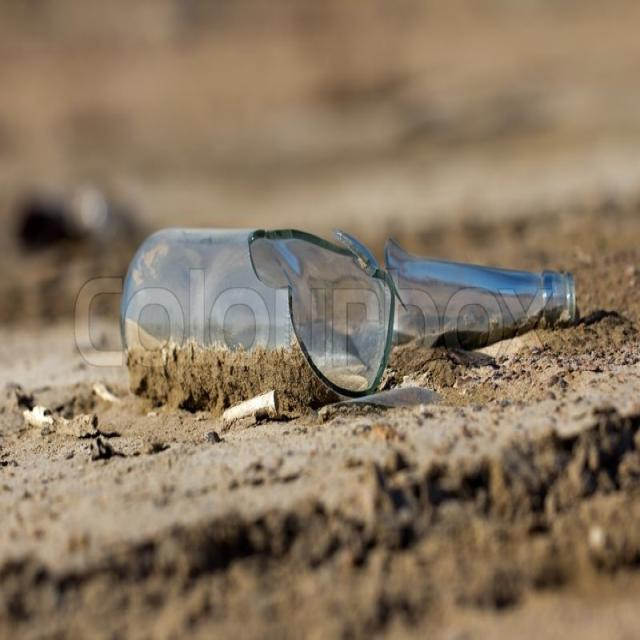Dry Waste: (120, 229, 405, 396), (382, 234, 576, 342)
